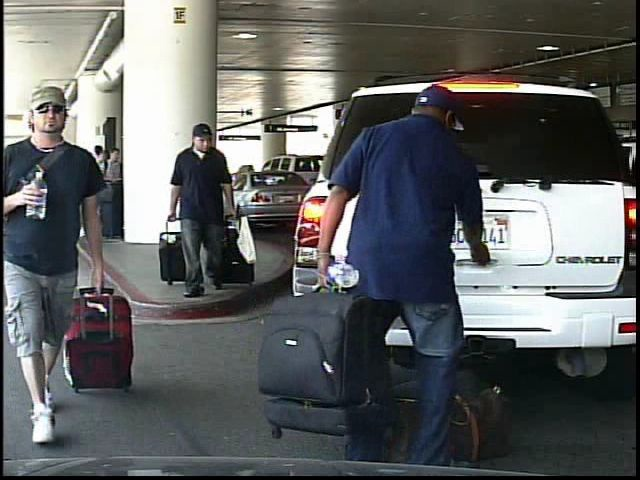person: (307, 75, 497, 473), (5, 82, 130, 448), (160, 121, 247, 299)
